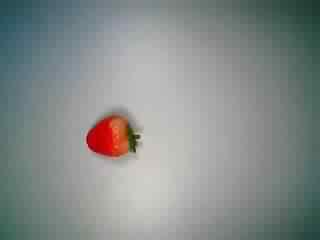strawberry: (73, 103, 141, 167)
